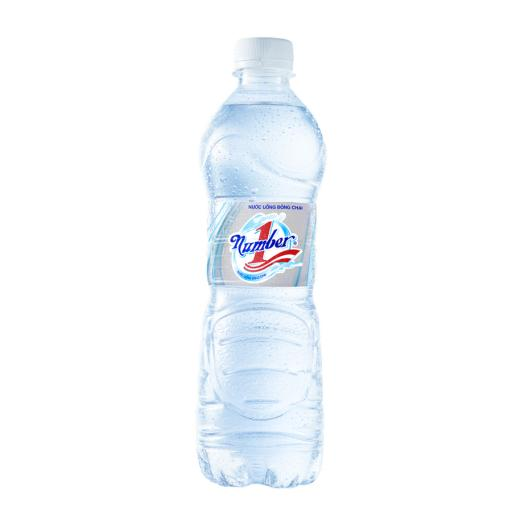bottle: (197, 38, 325, 488)
